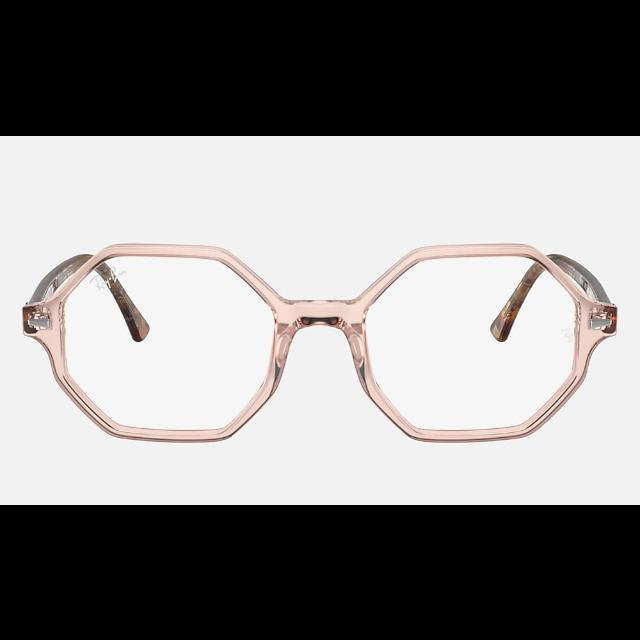glasses: (24, 243, 616, 441)
